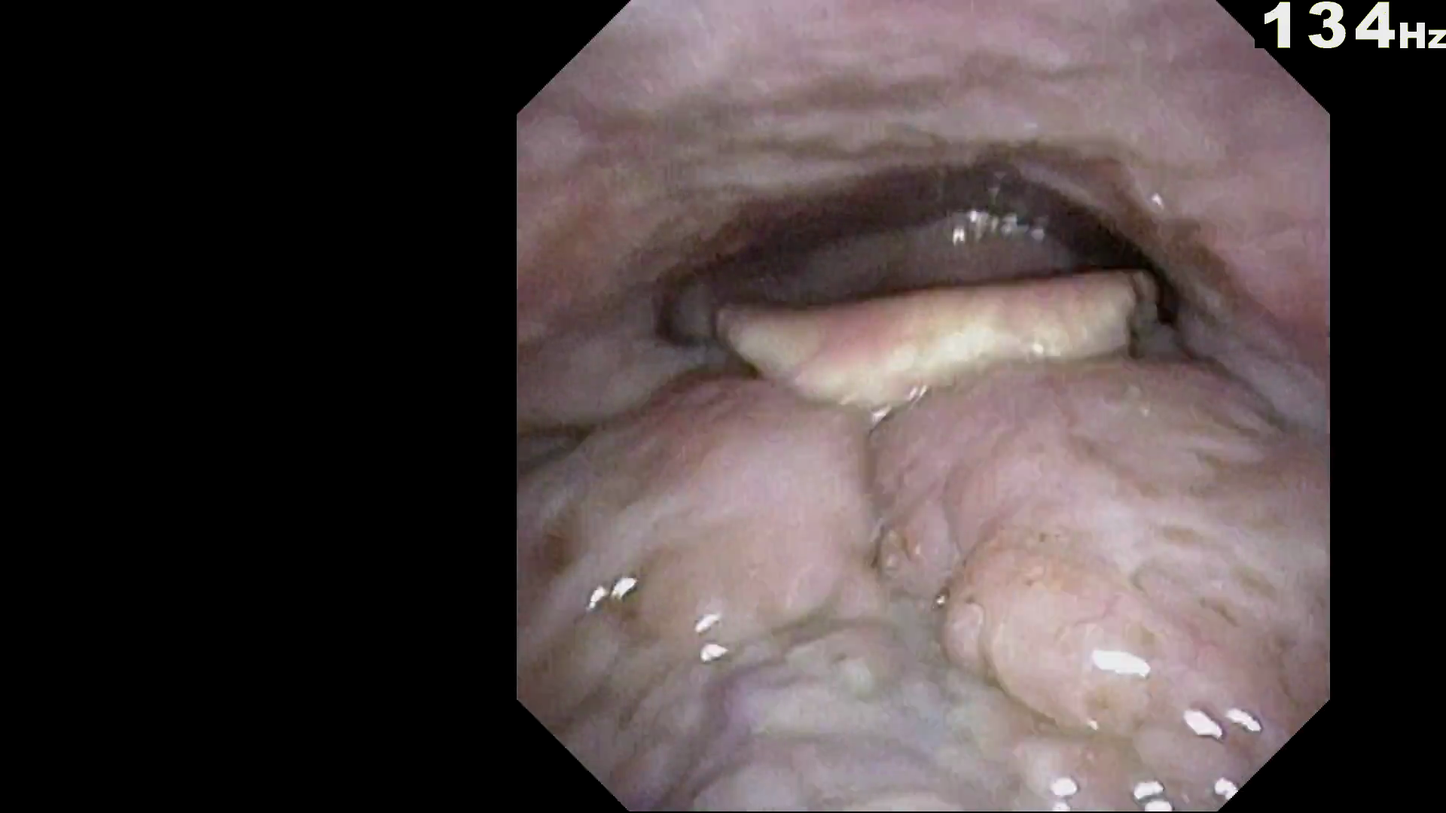epiglottis: (722, 350, 1225, 492)
